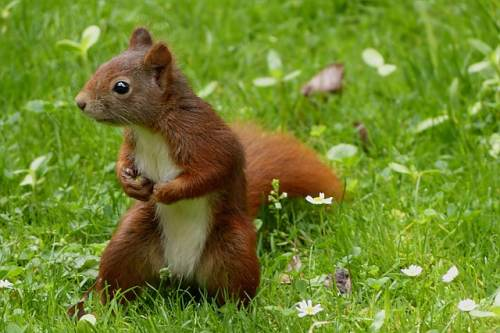Ardilla: (69, 18, 301, 306)
